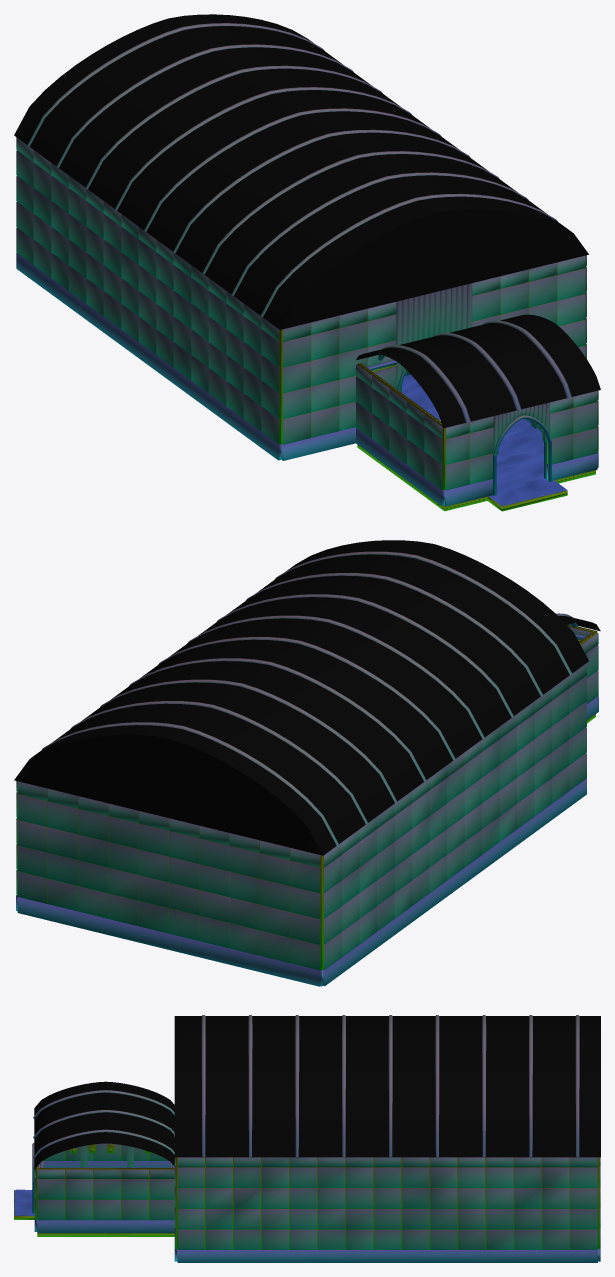
The model's file is ansedra_sanctum.glb.
3 renders of one model, top to bottom at view 1: azimuth 30°, elevation 25°; view 2: azimuth 150°, elevation 25°; view 3: azimuth 270°, elevation 25°, orthographic. The views are drawn at different scales.
Visible parts, largest first — view 1: ansedra_sanctum; view 2: ansedra_sanctum; view 3: ansedra_sanctum.
Boxes of the visible parts, x1=… form: ansedra_sanctum: x1=14, y1=14, x2=600, y2=511; ansedra_sanctum: x1=14, y1=540, x2=600, y2=986; ansedra_sanctum: x1=14, y1=1015, x2=600, y2=1262.
Size of what is drawn, in the model's own units: 24.58 by 17.2 by 50.24.
